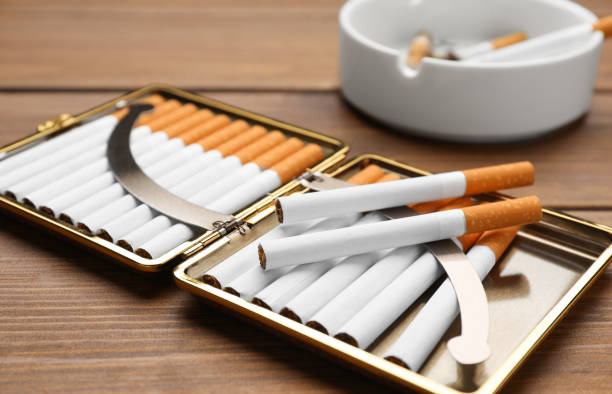cigarette: (222, 172, 401, 301), (202, 164, 385, 290), (133, 143, 325, 259), (115, 136, 306, 252), (75, 123, 269, 237), (96, 129, 288, 243), (379, 222, 522, 374), (257, 195, 544, 270), (37, 112, 233, 220), (59, 118, 251, 228), (21, 109, 215, 213), (3, 102, 199, 204), (332, 230, 484, 350), (0, 97, 184, 196), (275, 159, 537, 224), (0, 88, 166, 177), (307, 241, 428, 337), (279, 246, 398, 326), (460, 12, 612, 63), (248, 256, 349, 314), (449, 30, 529, 59), (405, 26, 434, 66)
